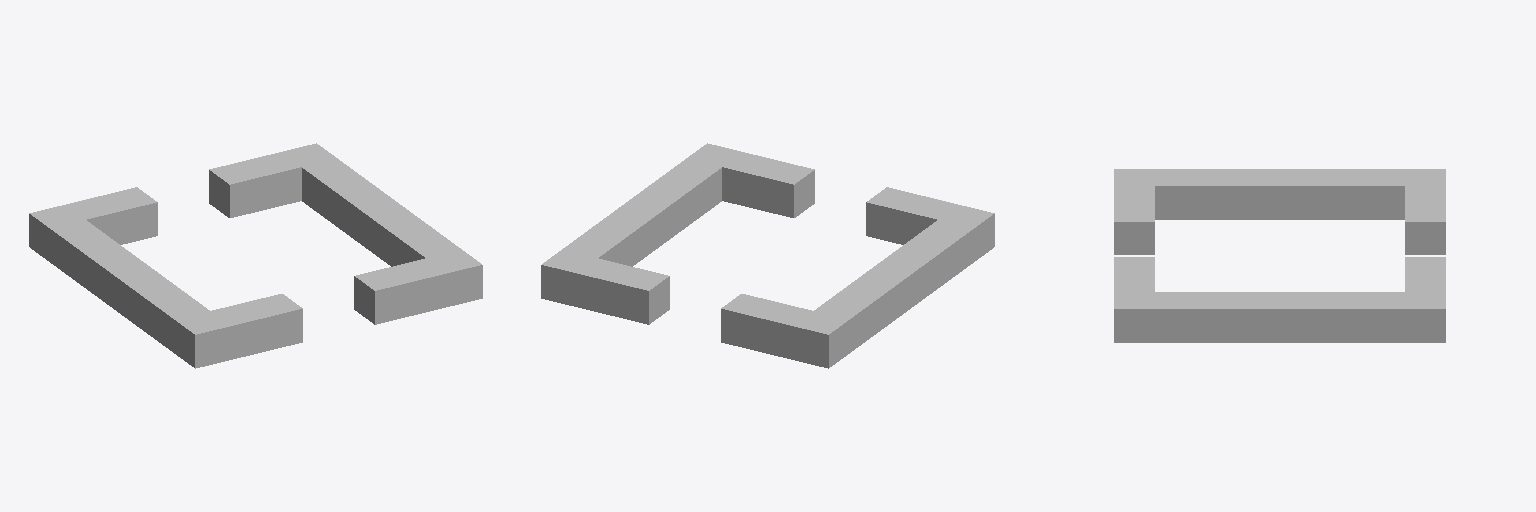
Rendered from Github.mtl.obj.
The picture shows the model from 3 angles: view 1: azimuth 30°, elevation 25°; view 2: azimuth 150°, elevation 25°; view 3: azimuth 270°, elevation 25°; orthographic projection.
Visible parts, largest first — view 1: Text; view 2: Text; view 3: Text.
Boxes of the visible parts, x1,y1,x2,y2 form: Text: [29, 143, 482, 368]; Text: [541, 143, 994, 368]; Text: [1114, 169, 1445, 342].
Size of the model in its own units: 0.8889 by 0.1 by 0.8889.